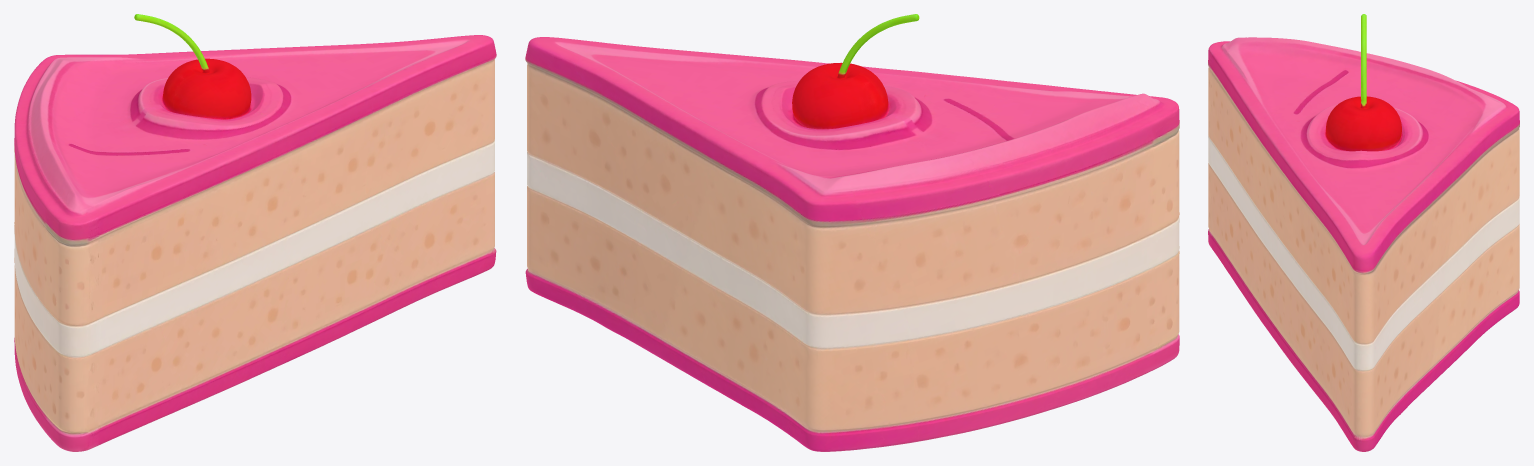
The model's file is Fetta torta.glb.
3 renders of one model, left to right at view 1: azimuth 30°, elevation 25°; view 2: azimuth 150°, elevation 25°; view 3: azimuth 270°, elevation 25°, orthographic. The views are drawn at different scales.
Bounding box in the file's own units: 1.9 × 1.19 × 1.15.
1 material, 1 textured.
